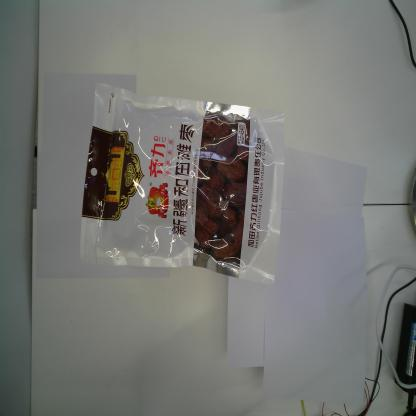Dried Food: (77, 79, 290, 290)
